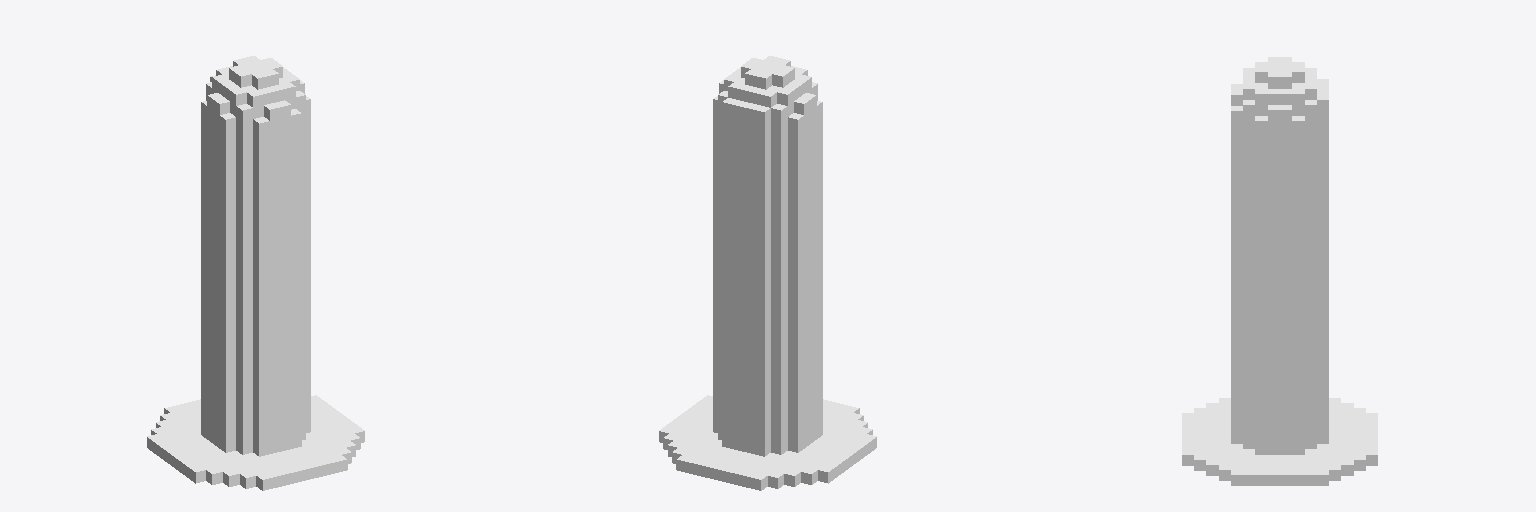
The model's file is saboObj-5.obj.
3 views of the same model, side by side, from view 1: azimuth 30°, elevation 25°; view 2: azimuth 150°, elevation 25°; view 3: azimuth 270°, elevation 25° (orthographic).
Visible parts, largest first — view 1: object 1; view 2: object 1; view 3: object 1.
Boxes of the visible parts, x1,y1,x2,y2 form: object 1: [147, 56, 364, 490]; object 1: [659, 56, 876, 490]; object 1: [1182, 57, 1377, 485].
Bounding box in the file's own units: 1.6 × 3.4 × 1.6.